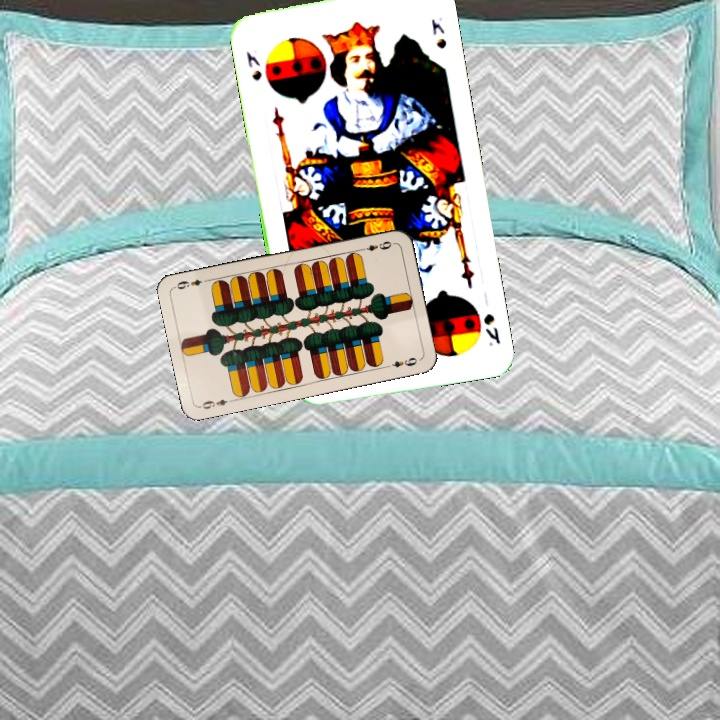E9: (196, 395, 237, 412), (356, 237, 396, 254)
SK: (479, 309, 503, 349), (242, 47, 264, 83)
